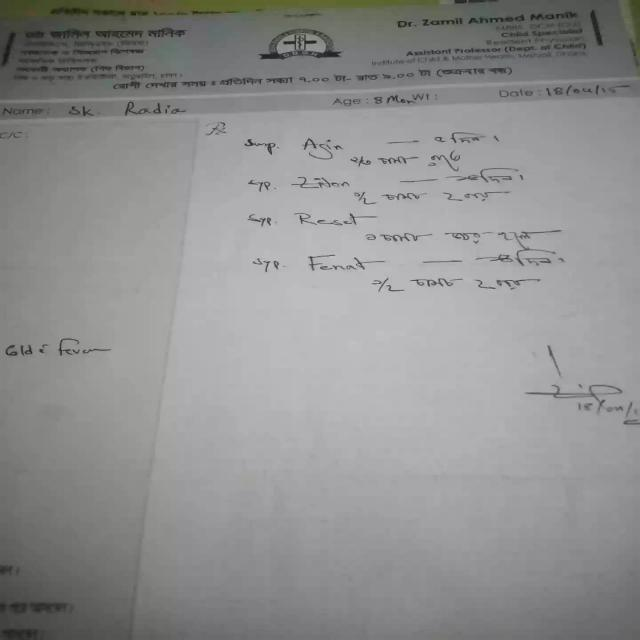Azin: (296, 132, 350, 165)
Fenat: (298, 249, 381, 277)
Reset: (289, 205, 365, 236)
Ziton: (289, 172, 353, 193)
